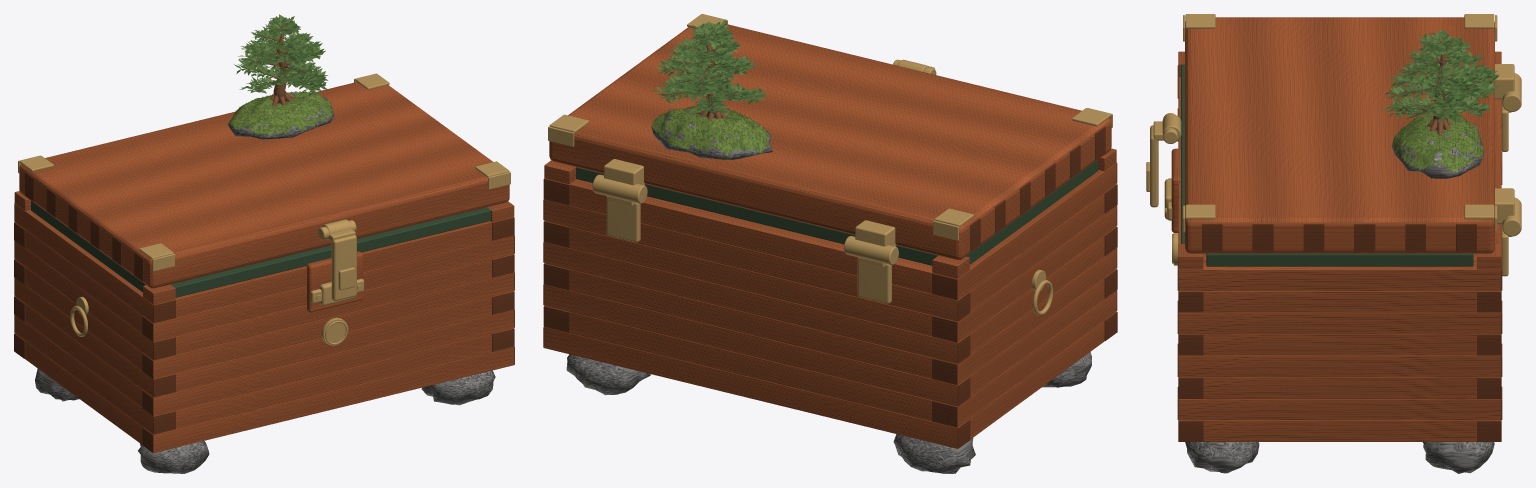
File: japan.glb
The picture shows the model from 3 angles, left to right: view 1: azimuth 30°, elevation 25°; view 2: azimuth 150°, elevation 25°; view 3: azimuth 270°, elevation 25°; orthographic projection. The views are drawn at different scales.
Visible parts, largest first — view 1: Lid / polished slab, Cedar / front course 2, Cedar / front course 0, Cedar / front course 4, Cedar / front course 1, Cedar / front course 6, Cedar / front course 3, Cedar / front course 5, Cedar / front course 7, Mineral seam / long, Cedar / side course 7, Terrain / moss carpet (+20 smaller); view 2: Lid / polished slab, Cedar / rear course 2, Cedar / rear course 4, Cedar / rear course 0, Cedar / rear course 7, Cedar / rear course 3, Cedar / rear course 5, Cedar / rear course 1, Cedar / rear course 6, Cedar / side course 7, Terrain / moss carpet, Cedar / side course 1 (+23 smaller); view 3: Lid / polished slab, Cedar / side course 7.001, Cedar / side course 3.001, Cedar / side course 5.001, Cedar / side course 1.001, Cedar / side course 0.001, Cedar / side course 2.001, Cedar / side course 4.001, Cedar / side course 6.001, Mineral seam / side.001, Cedar tree / foliage 1, Cedar tree / foliage 2 (+35 smaller).
Part boxes in pixels (x1,y1,x2,y2): Lid / polished slab: (19,82,509,288); Cedar / front course 2: (143,310,514,415); Cedar / front course 0: (143,347,514,452); Cedar / front course 4: (143,272,514,378); Cedar / front course 1: (176,333,491,428); Cedar / front course 6: (143,235,514,341); Cedar / front course 3: (176,296,491,391); Cedar / front course 5: (176,259,491,354); Cedar / front course 7: (175,221,491,317); Mineral seam / long: (170,207,490,297); Cedar / side course 7: (14,203,175,323); Terrain / moss carpet: (228,91,332,135); Lid / polished slab: (549,24,1111,259); Cedar / rear course 2: (544,284,968,406); Cedar / rear course 4: (544,242,969,363); Cedar / rear course 0: (544,327,969,448); Cedar / rear course 7: (569,179,932,293); Cedar / rear course 3: (569,269,931,378); Cedar / rear course 5: (569,227,932,336); Cedar / rear course 1: (569,312,932,421); Cedar / rear course 6: (544,199,969,321); Cedar / side course 7: (932,163,1116,300); Terrain / moss carpet: (652,105,770,156); Cedar / side course 1: (932,291,1116,427); Lid / polished slab: (1185,17,1494,253); Cedar / side course 7.001: (1178,261,1501,290); Cedar / side course 3.001: (1178,355,1501,377); Cedar / side course 5.001: (1178,312,1501,334); Cedar / side course 1.001: (1178,399,1501,420); Cedar / side course 0.001: (1203,420,1476,441); Cedar / side course 2.001: (1203,377,1476,398); Cedar / side course 4.001: (1203,334,1476,355); Cedar / side course 6.001: (1203,291,1476,312); Mineral seam / side.001: (1206,253,1473,266); Cedar tree / foliage 1: (1385,31,1498,120); Cedar tree / foliage 2: (1380,30,1498,122).
Bounding box in the file's own units: 3.79 × 3.27 × 2.88.
Materials: 13 (3 with a texture image).
